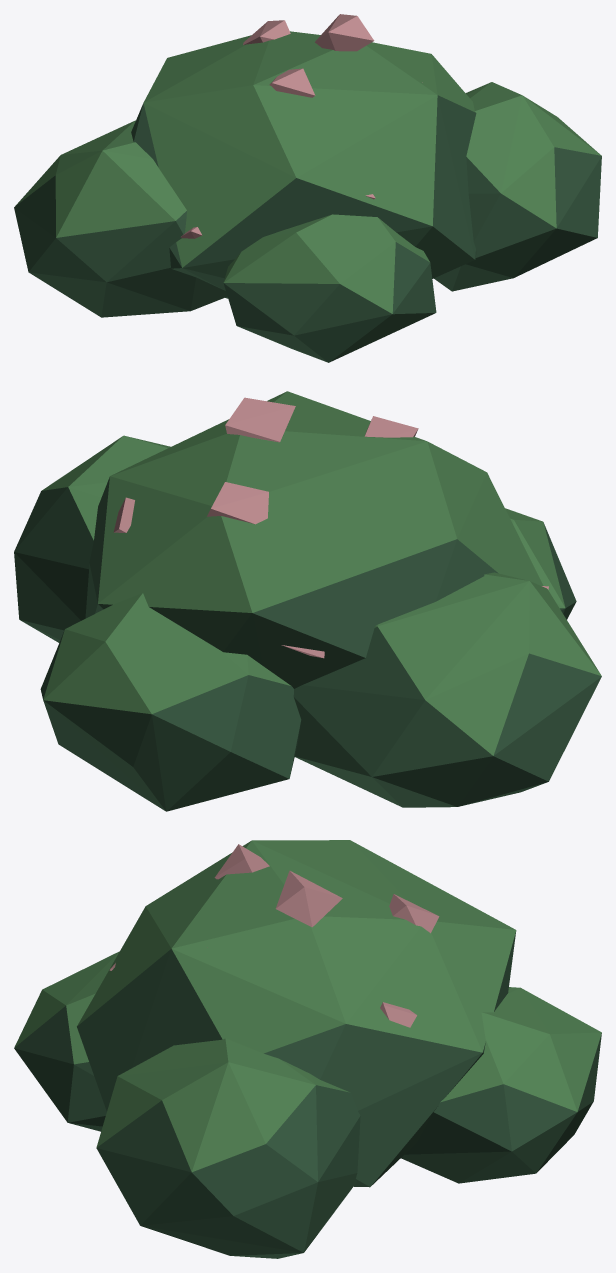
The model's file is flowering_shrub.glb.
The picture shows the model from 3 angles, top to bottom: view 1: azimuth 30°, elevation 25°; view 2: azimuth 150°, elevation 25°; view 3: azimuth 270°, elevation 25°; orthographic projection. The views are drawn at different scales.
Parts seen in each view (by area): view 1: FloweringShrub / Leaf, FloweringShrub / PineNeedle, FloweringShrub / Blossom; view 2: FloweringShrub / Leaf, FloweringShrub / PineNeedle, FloweringShrub / Blossom; view 3: FloweringShrub / Leaf, FloweringShrub / PineNeedle, FloweringShrub / Blossom.
Boxes of the visible parts, <box> form: FloweringShrub / Leaf: <box>15,31,601,313</box>; FloweringShrub / PineNeedle: <box>14,95,601,362</box>; FloweringShrub / Blossom: <box>180,14,422,238</box>; FloweringShrub / Leaf: <box>41,391,601,755</box>; FloweringShrub / PineNeedle: <box>14,477,601,811</box>; FloweringShrub / Blossom: <box>113,397,548,658</box>; FloweringShrub / Leaf: <box>14,840,601,1171</box>; FloweringShrub / PineNeedle: <box>14,931,601,1258</box>; FloweringShrub / Blossom: <box>109,844,439,1027</box>.
Size of the model in its own units: 2.02 by 1.03 by 1.79.
